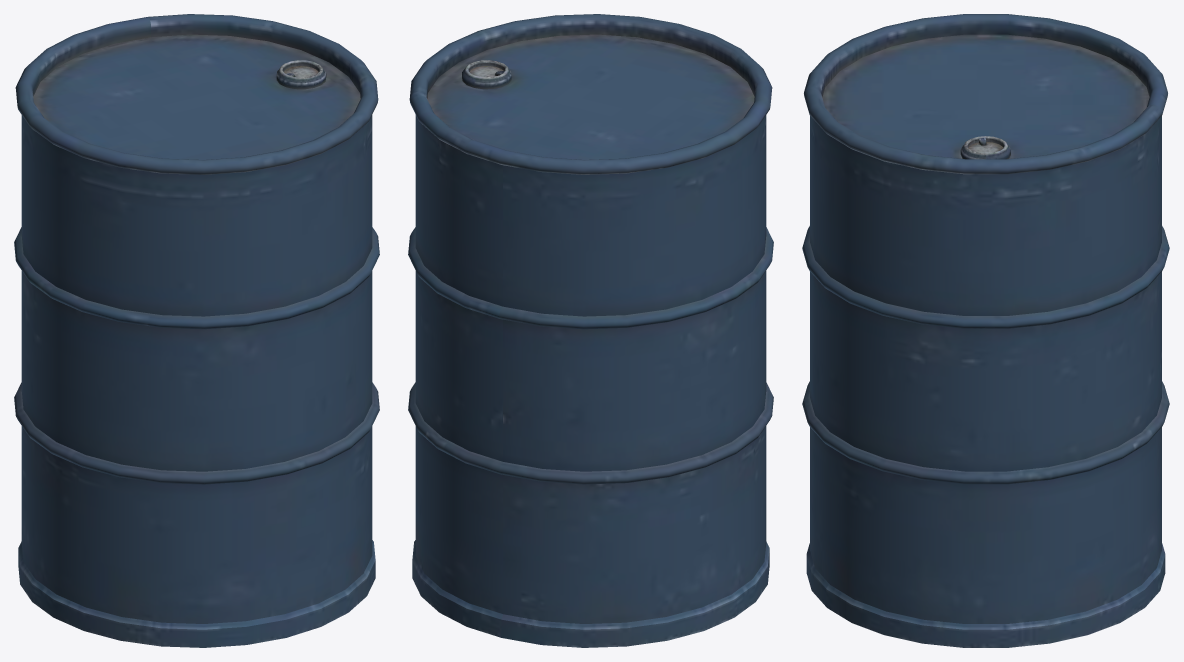
File: barrel.glb
The picture shows the model from 3 angles, left to right: view 1: azimuth 30°, elevation 25°; view 2: azimuth 150°, elevation 25°; view 3: azimuth 270°, elevation 25°; orthographic projection.
Visible parts, largest first — view 1: barrel_03; view 2: barrel_03; view 3: barrel_03.
Part boxes in pixels (left/top/right/bottom): barrel_03: left=14, top=14, right=379, bottom=647; barrel_03: left=408, top=14, right=773, bottom=647; barrel_03: left=802, top=14, right=1169, bottom=647.
Size of the model in its own units: 0.6339 by 0.9305 by 0.6386.
1 material, 1 textured.
